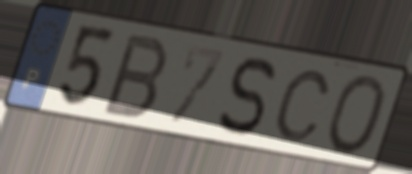5: (56, 21, 121, 113)
7: (167, 41, 228, 128)
B: (98, 31, 173, 122)
C: (271, 67, 335, 144)
O: (323, 73, 388, 159)
S: (214, 54, 279, 139)
